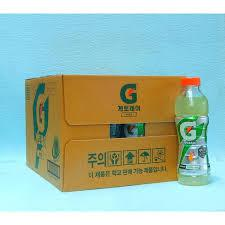gatorade_lemon: (174, 77, 210, 186)
